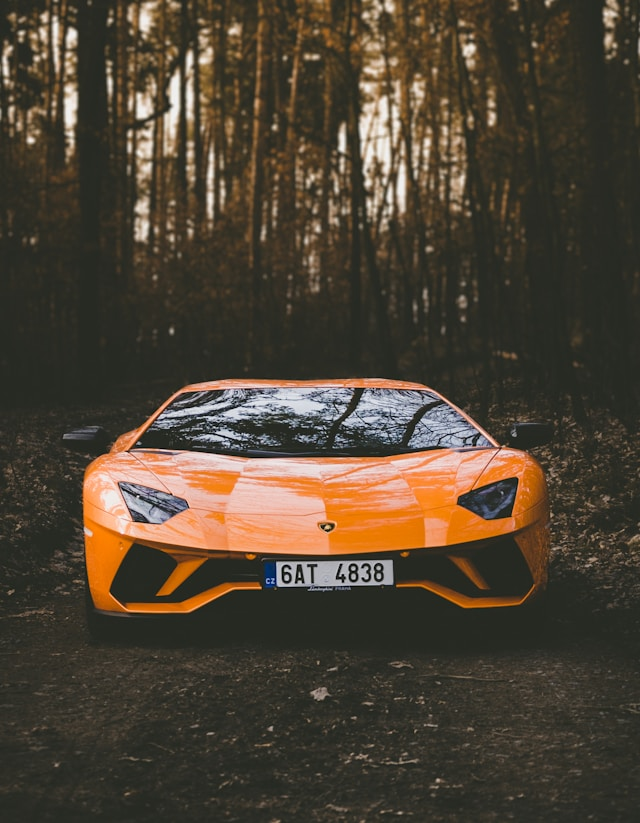car: (51, 345, 597, 638)
